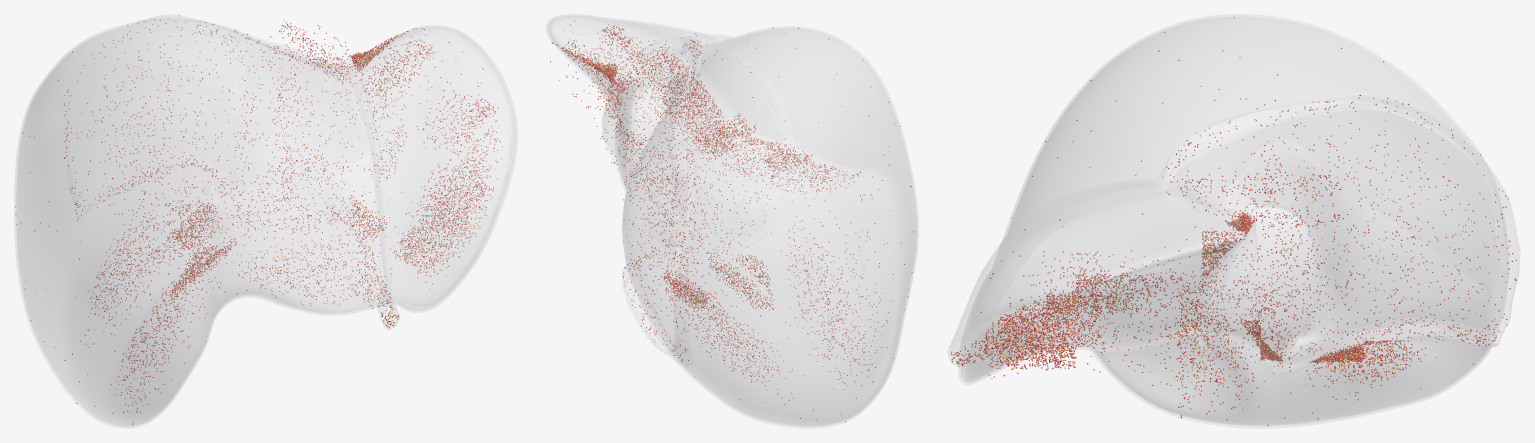
Rendered from 3d-vh-m-liver-UBERON_0002107-all-as-popv-sphere-hra-pop.glb.
3 views of the same model, side by side, from view 1: azimuth 30°, elevation 25°; view 2: azimuth 150°, elevation 25°; view 3: azimuth 270°, elevation 25° (orthographic). The views are drawn at different scales.
Visible parts, largest first — view 1: VH_M_liver_capsule, VH_M_left_anterolateral_segment, VH_M_right_posterosuperior_segment, VH_M_left_posterolateral_segment, VH_M_right_posteroinferior_segment, VH_M_right_anteroinferior_segment, VH_M_coronary_ligament_of_liver; view 2: VH_M_liver_capsule, VH_M_right_anteroinferior_segment, VH_M_coronary_ligament_of_liver, VH_M_bare_area_of_liver, VH_M_right_posteroinferior_segment, VH_M_right_posterosuperior_segment, VH_M_left_posterolateral_segment, VH_M_ligamentum_venosum, VH_M_falciform_ligament, VH_M_right_anterosuperior_segment; view 3: VH_M_liver_capsule, VH_M_right_posterosuperior_segment, VH_M_coronary_ligament_of_liver, VH_M_right_anterosuperior_segment, VH_M_falciform_ligament, VH_M_ligamentum_venosum, VH_M_left_anterolateral_segment.
Boxes of the visible parts, left/top/right/bottom form: VH_M_liver_capsule: left=14, top=18, right=517, bottom=428; VH_M_left_anterolateral_segment: left=387, top=171, right=508, bottom=306; VH_M_right_posterosuperior_segment: left=18, top=22, right=150, bottom=170; VH_M_left_posterolateral_segment: left=372, top=28, right=513, bottom=170; VH_M_right_posteroinferior_segment: left=17, top=175, right=55, bottom=371; VH_M_right_anteroinferior_segment: left=69, top=220, right=225, bottom=424; VH_M_coronary_ligament_of_liver: left=135, top=14, right=361, bottom=78; VH_M_liver_capsule: left=546, top=14, right=918, bottom=428; VH_M_right_anteroinferior_segment: left=835, top=145, right=915, bottom=422; VH_M_coronary_ligament_of_liver: left=622, top=36, right=702, bottom=365; VH_M_bare_area_of_liver: left=625, top=93, right=686, bottom=281; VH_M_right_posteroinferior_segment: left=648, top=312, right=825, bottom=425; VH_M_right_posterosuperior_segment: left=623, top=158, right=644, bottom=288; VH_M_left_posterolateral_segment: left=550, top=17, right=689, bottom=50; VH_M_ligamentum_venosum: left=602, top=81, right=617, bottom=160; VH_M_falciform_ligament: left=679, top=33, right=734, bottom=56; VH_M_right_anterosuperior_segment: left=839, top=42, right=896, bottom=121; VH_M_liver_capsule: left=958, top=14, right=1508, bottom=428; VH_M_right_posterosuperior_segment: left=1308, top=28, right=1497, bottom=255; VH_M_coronary_ligament_of_liver: left=1162, top=94, right=1520, bottom=373; VH_M_right_anterosuperior_segment: left=1104, top=17, right=1309, bottom=102; VH_M_falciform_ligament: left=949, top=172, right=1162, bottom=347; VH_M_ligamentum_venosum: left=1191, top=222, right=1257, bottom=352; VH_M_left_anterolateral_segment: left=961, top=271, right=995, bottom=379.
Size of the model in its own units: 0.1914 by 0.1746 by 0.2018.
